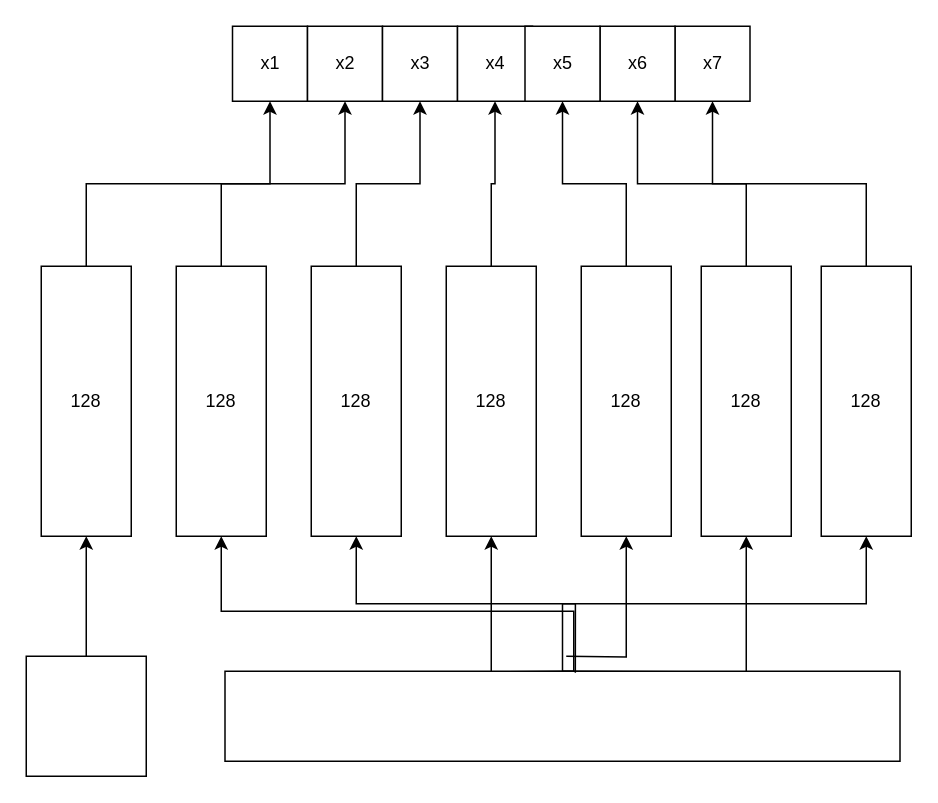
This 938x803 diagram has some shape labels left out. The shapes that lost their labels are listed below. From the top down, each one's centre as x and y in pixels, then its label:
the point at 85,715: noise
the point at 562,715: True Input
